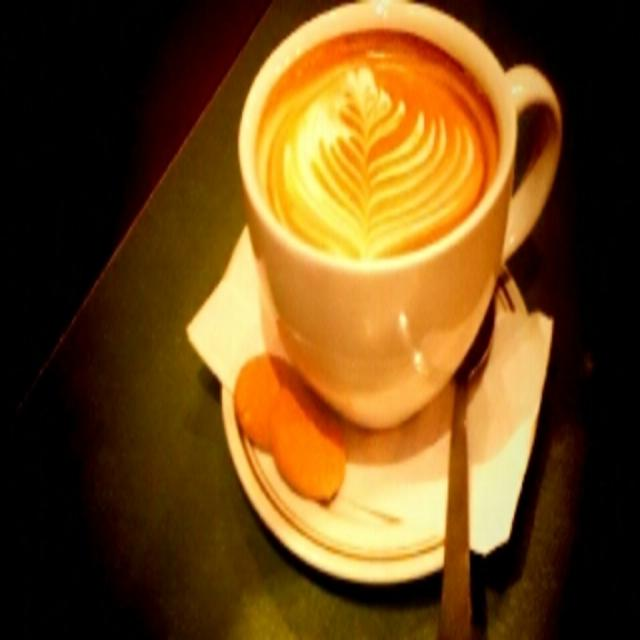Coffee: (254, 32, 500, 262)
